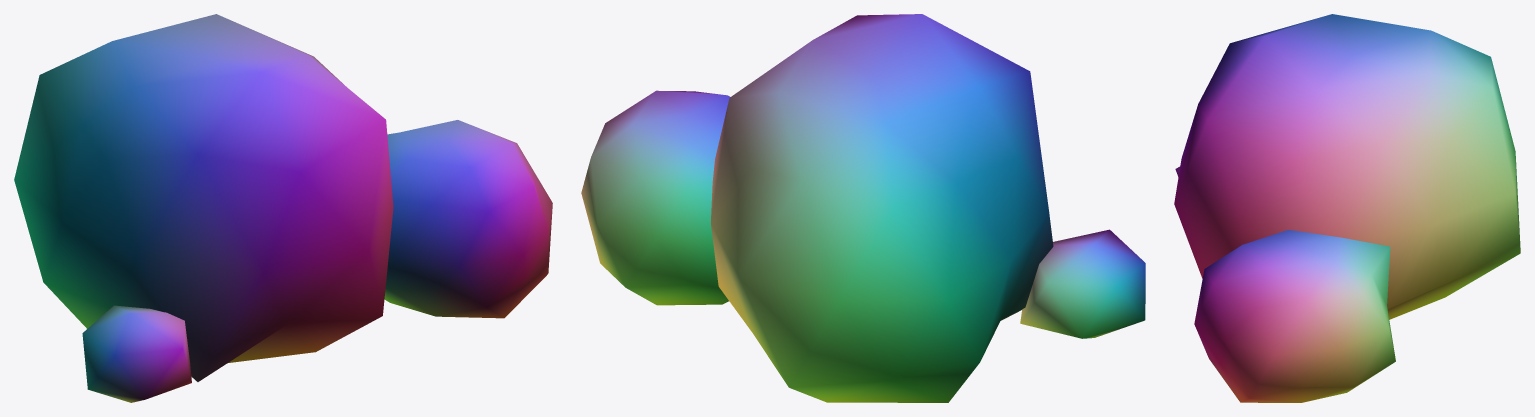
The model's file is SM_Rock_Plains_Cluster_B.fbx.
The picture shows the model from 3 angles, left to right: view 1: azimuth 30°, elevation 25°; view 2: azimuth 150°, elevation 25°; view 3: azimuth 270°, elevation 25°; orthographic projection. The views are drawn at different scales.
Parts seen in each view (by area): view 1: SM_Rock_Plains_Cluster_B; view 2: SM_Rock_Plains_Cluster_B; view 3: SM_Rock_Plains_Cluster_B.
Part boxes in pixels (x1,y1,x2,y2): SM_Rock_Plains_Cluster_B: [14, 14, 552, 402]; SM_Rock_Plains_Cluster_B: [581, 14, 1145, 402]; SM_Rock_Plains_Cluster_B: [1174, 14, 1520, 402].
Size of the model in its own units: 0.7208 by 0.4133 by 0.4878.
